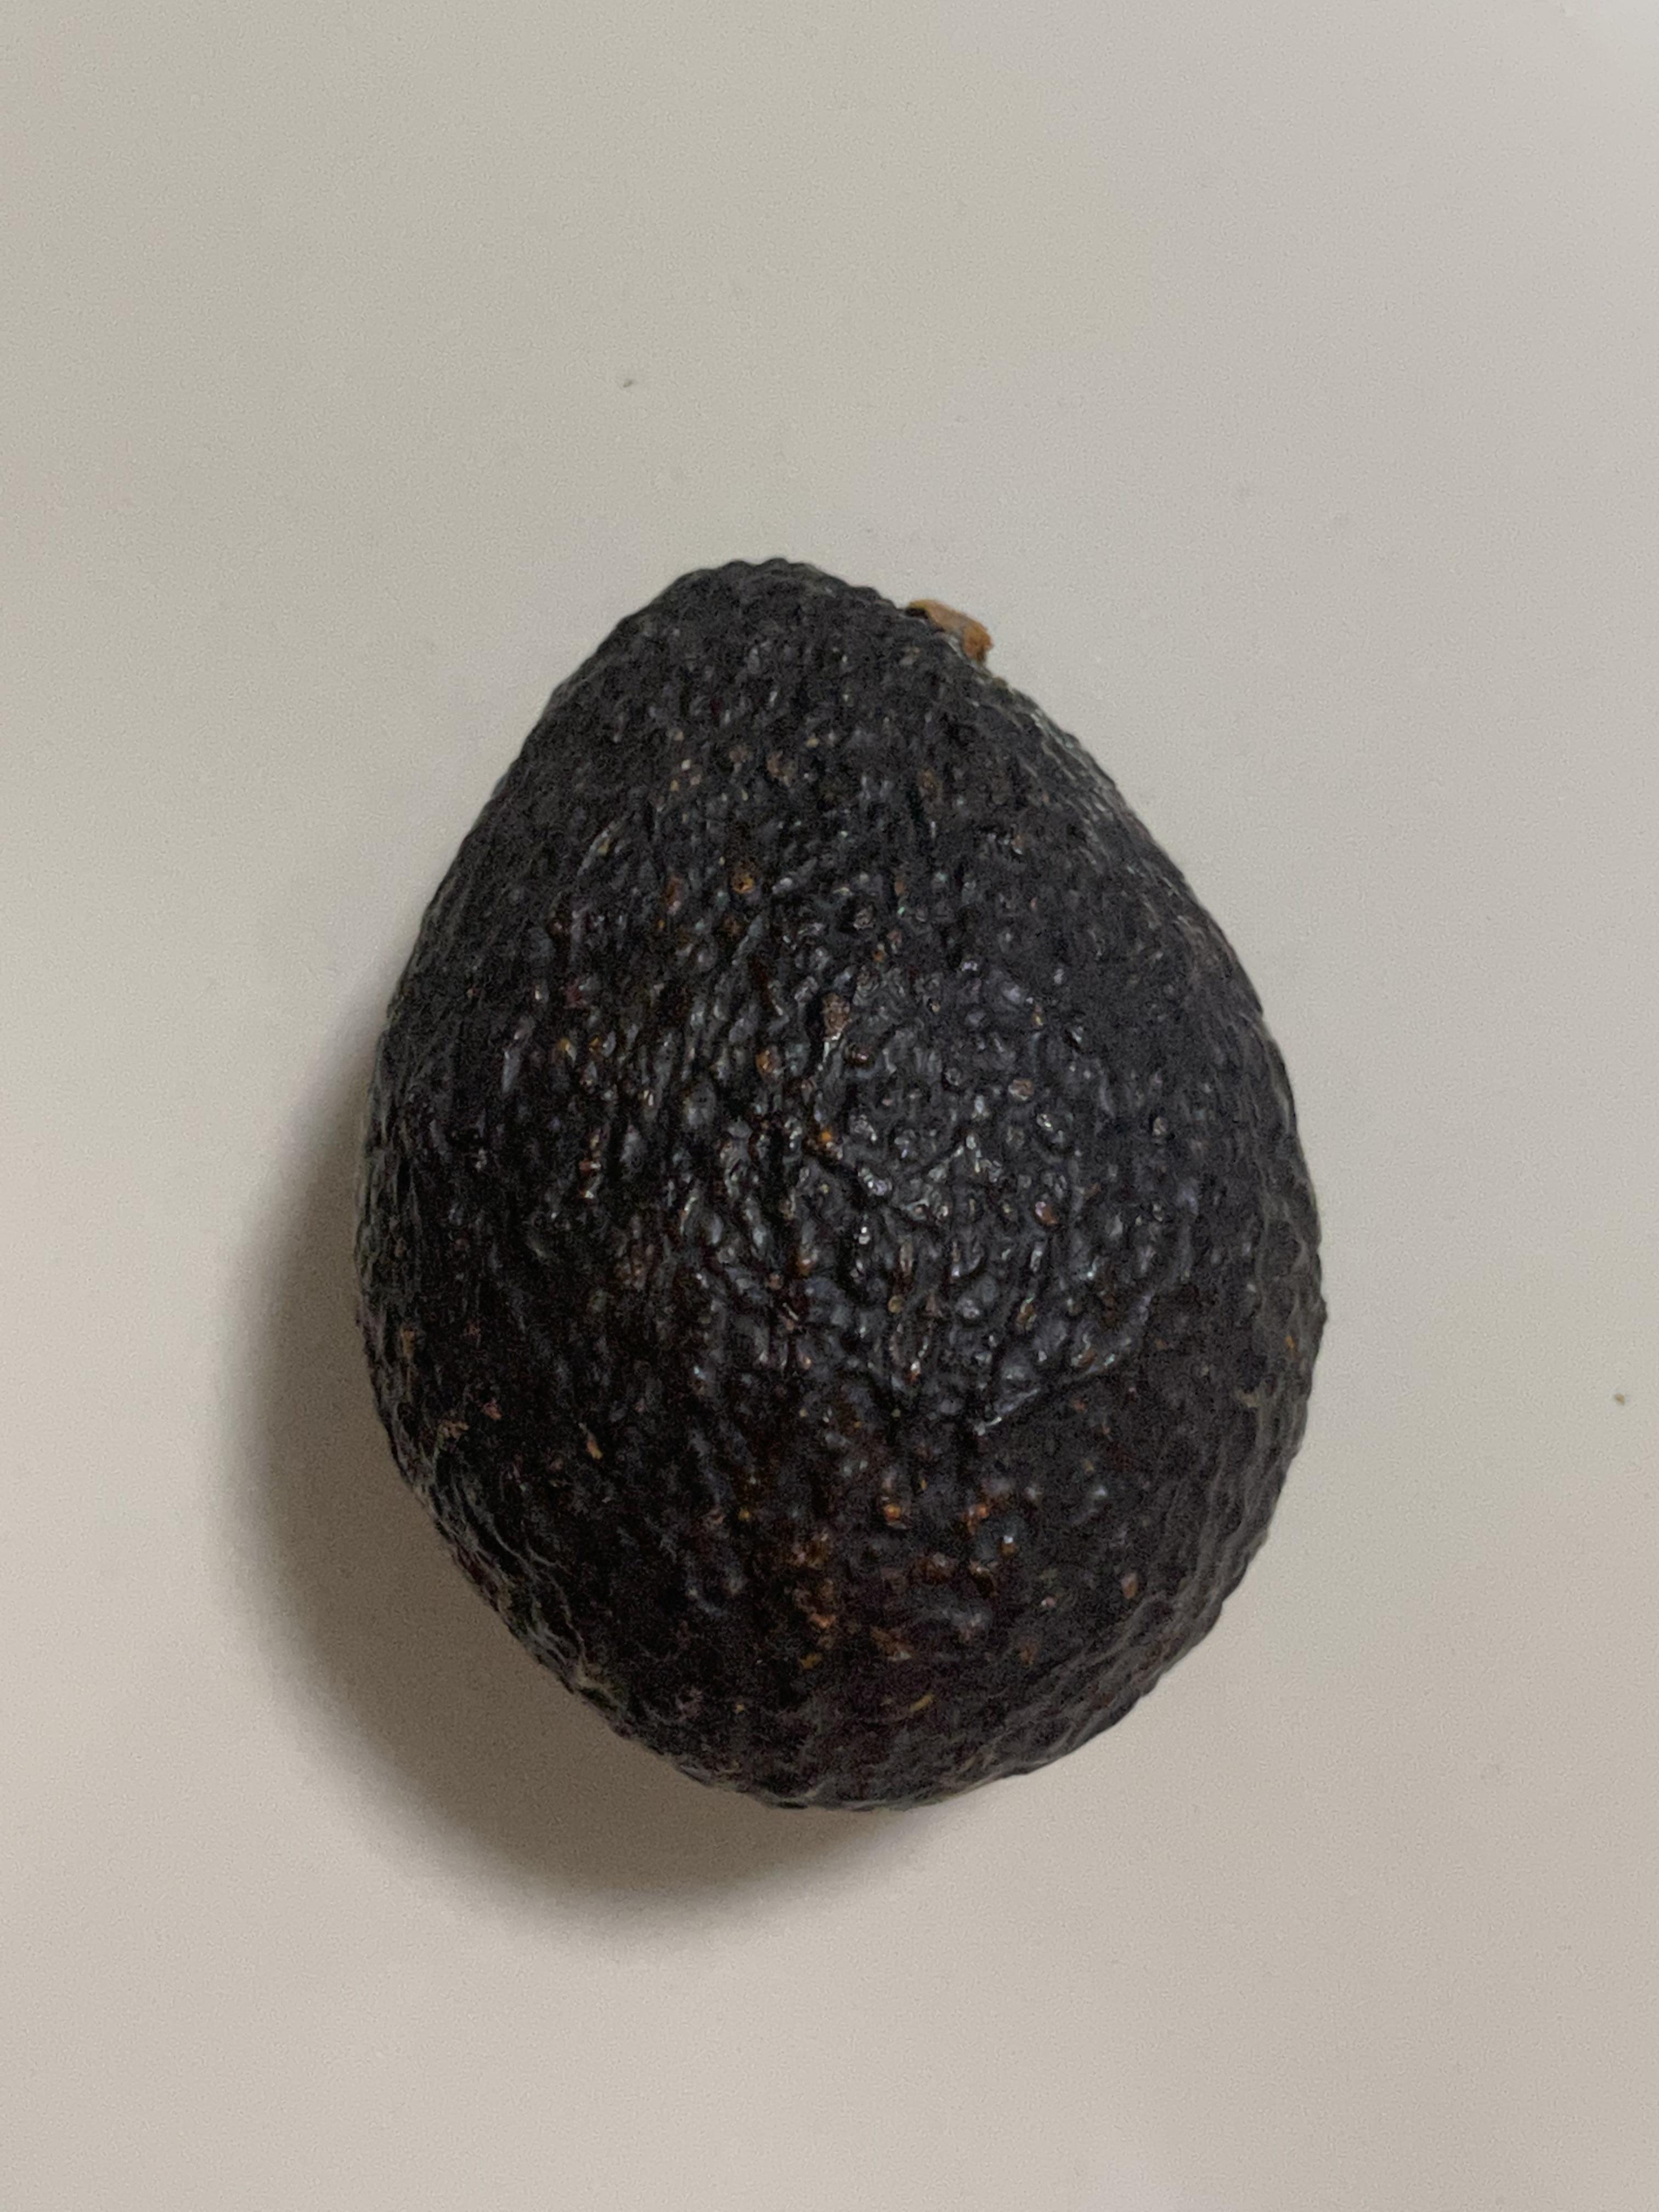Level3: (324, 521, 1351, 1841)
